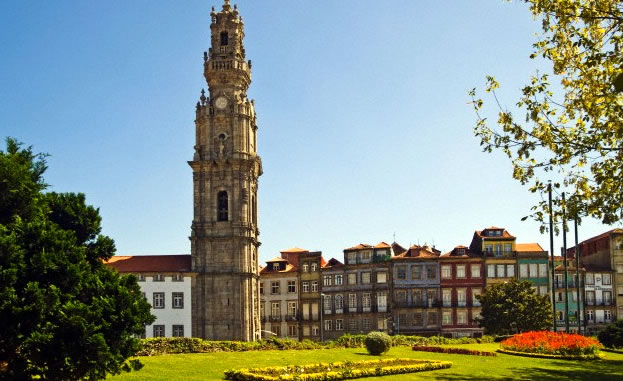clerigos: (187, 0, 264, 342)
